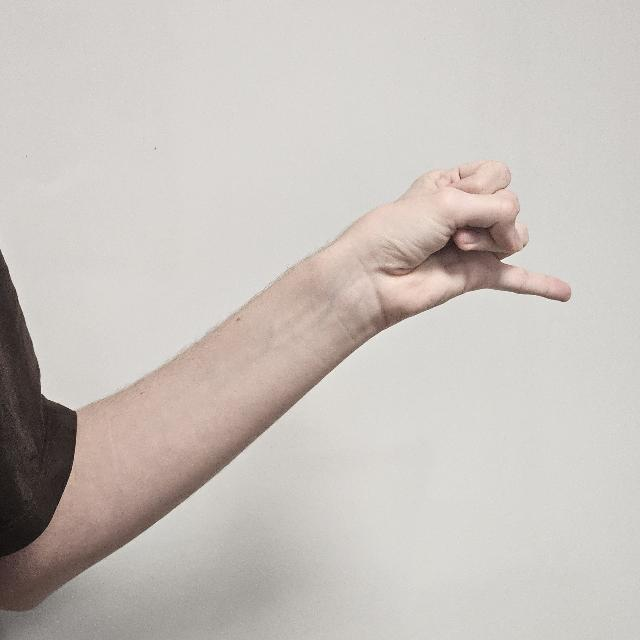Esquerda: (328, 147, 582, 337)
